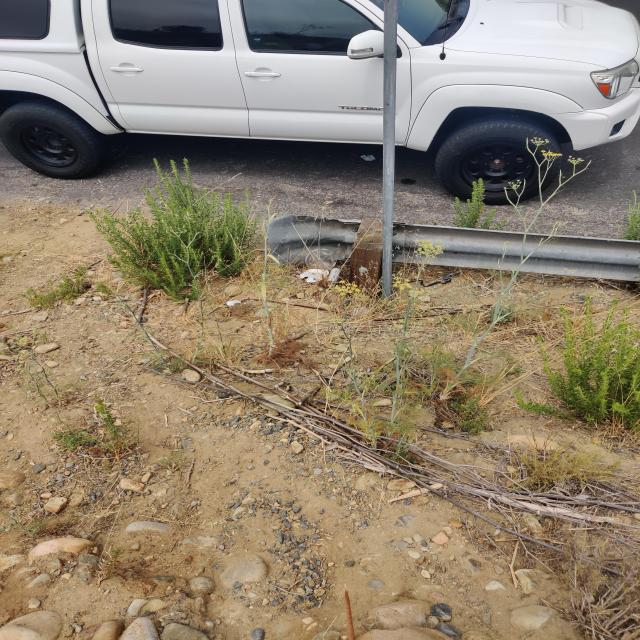litter: (408, 272, 462, 287), (306, 248, 337, 271), (300, 269, 329, 283), (327, 268, 341, 287), (226, 300, 241, 306)
